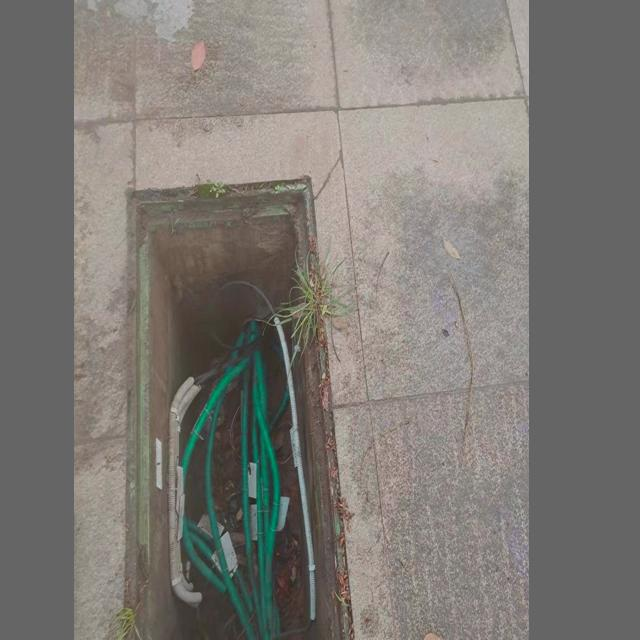lose: (119, 177, 354, 640)
